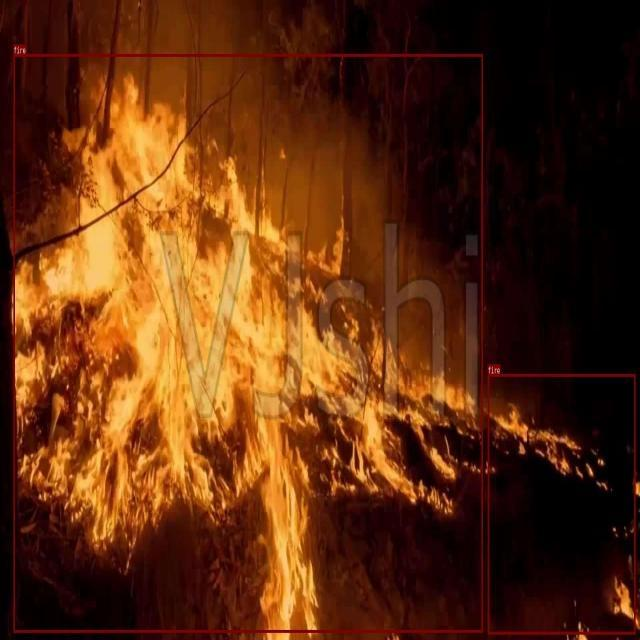fire: (14, 54, 483, 632), (488, 374, 635, 634)
